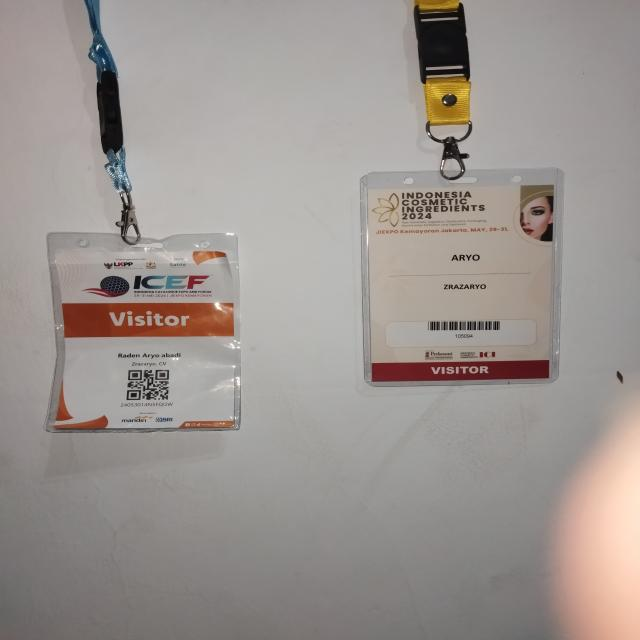ID_card: (359, 168, 562, 386), (43, 231, 242, 433)
